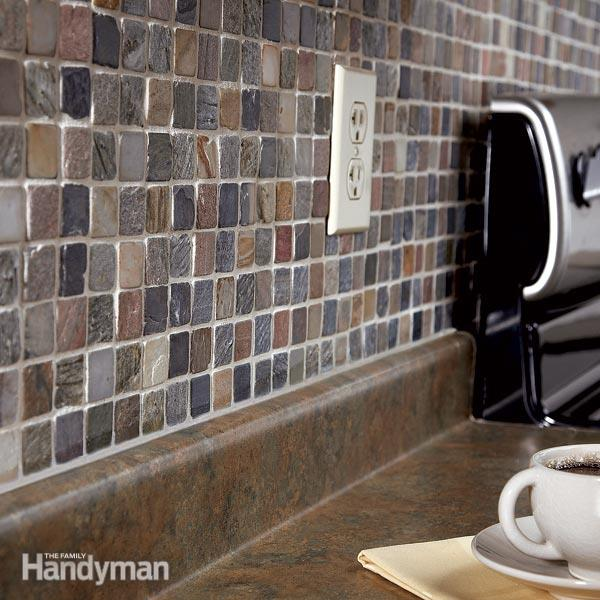outlet: (347, 162, 366, 200), (350, 106, 367, 143)
